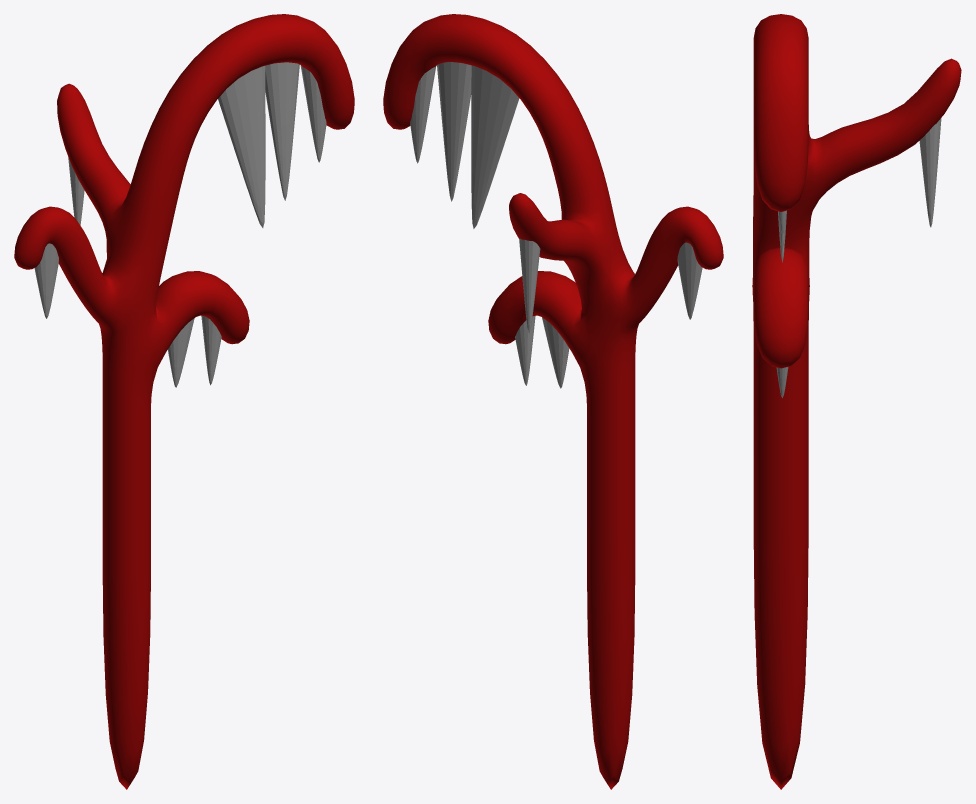
File: mars-tree-12.obj
3 views of the same model, side by side, from view 1: azimuth 30°, elevation 25°; view 2: azimuth 150°, elevation 25°; view 3: azimuth 270°, elevation 25° (orthographic). The views are drawn at different scales.
Parts seen in each view (by area): view 1: Tree.012_Cube.106; view 2: Tree.012_Cube.106; view 3: Tree.012_Cube.106.
Boxes of the visible parts, x1=… form: Tree.012_Cube.106: x1=14, y1=14, x2=354, y2=789; Tree.012_Cube.106: x1=383, y1=14, x2=723, y2=789; Tree.012_Cube.106: x1=752, y1=14, x2=961, y2=789.
Bounding box in the file's own units: 1.51 × 3.17 × 0.7137.
